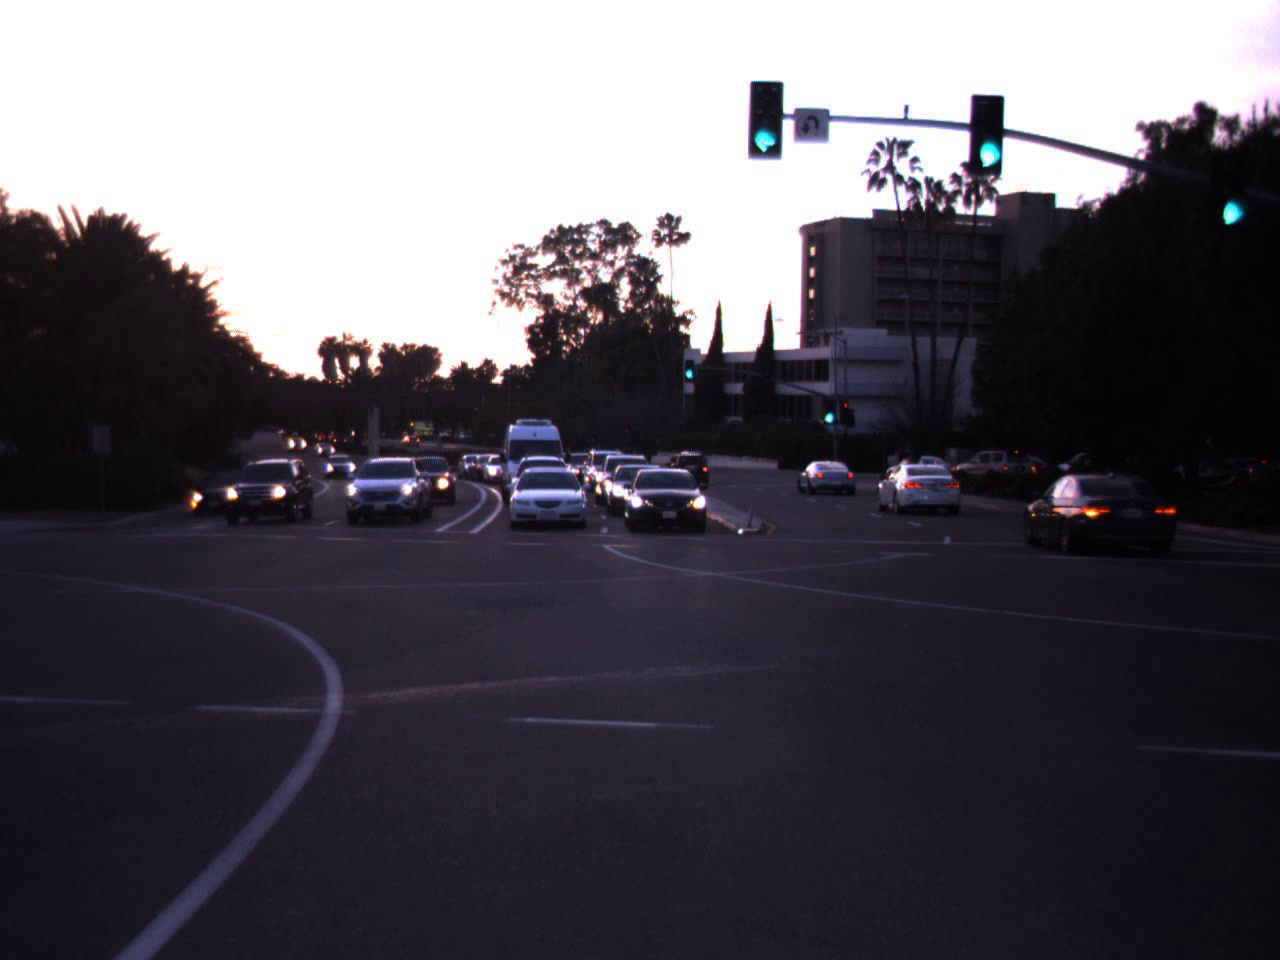go: (726, 43, 801, 163), (961, 77, 1018, 172), (1212, 141, 1254, 231), (820, 390, 838, 425), (680, 350, 698, 380)
